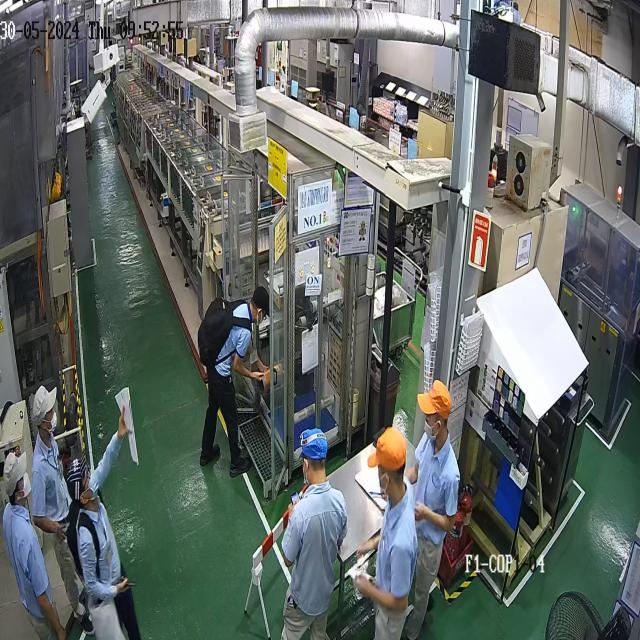Person: (65, 405, 141, 639), (30, 384, 95, 636), (400, 379, 461, 639), (280, 428, 348, 640), (353, 426, 419, 640), (198, 285, 270, 478), (2, 450, 66, 639)
